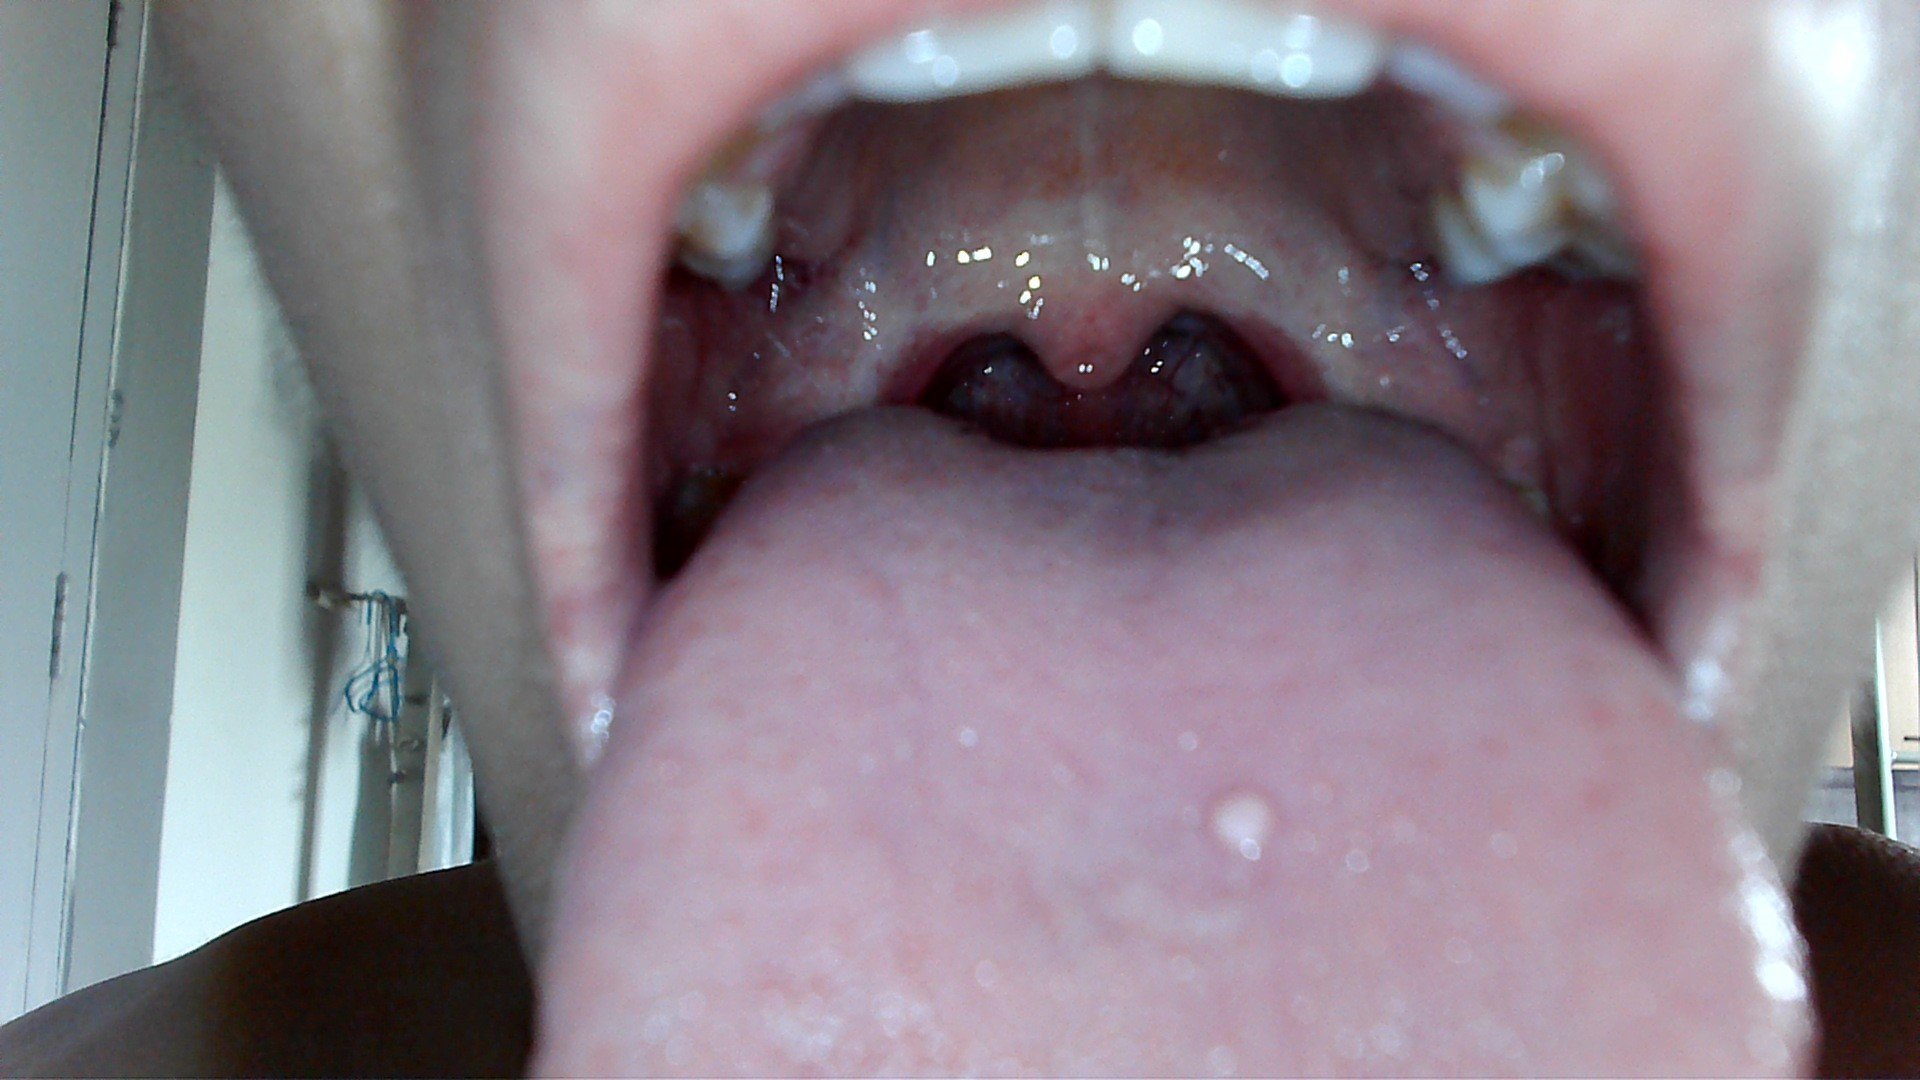throat: (1246, 240, 1414, 400), (746, 291, 938, 404)
